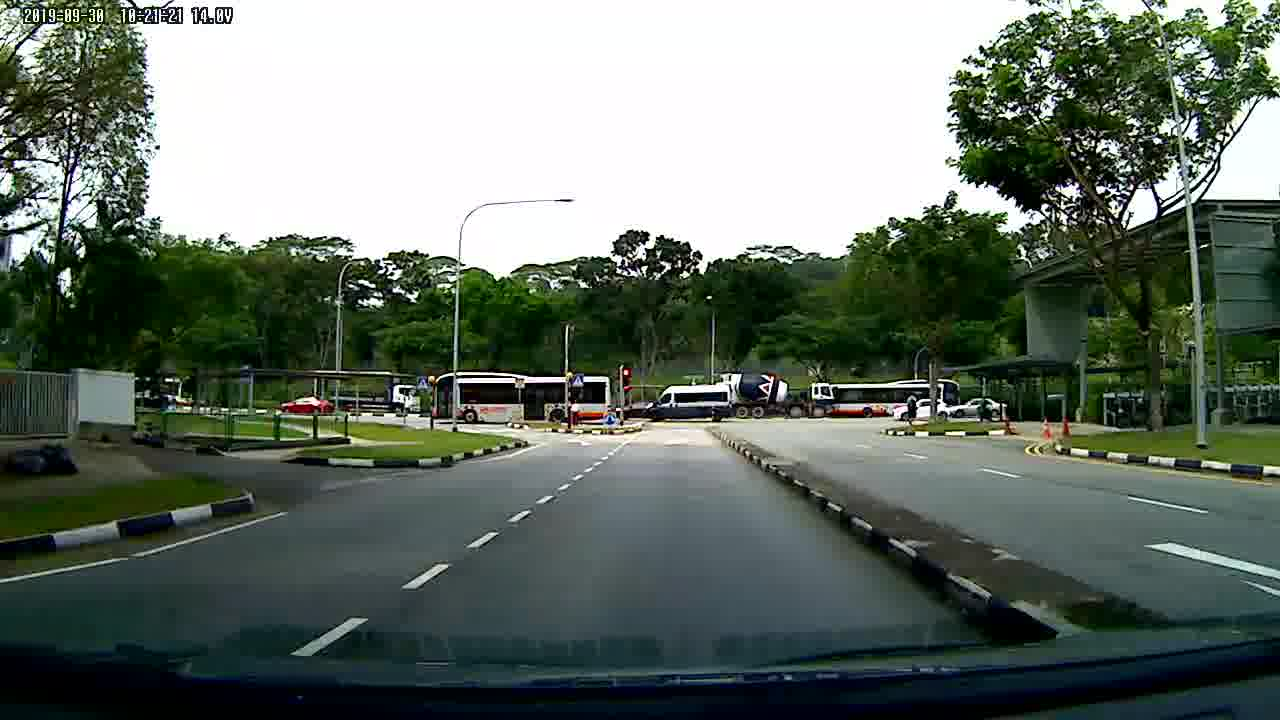bus: (433, 368, 614, 430), (831, 378, 960, 418)
car: (948, 398, 1012, 421), (278, 395, 337, 417), (895, 398, 950, 420)
